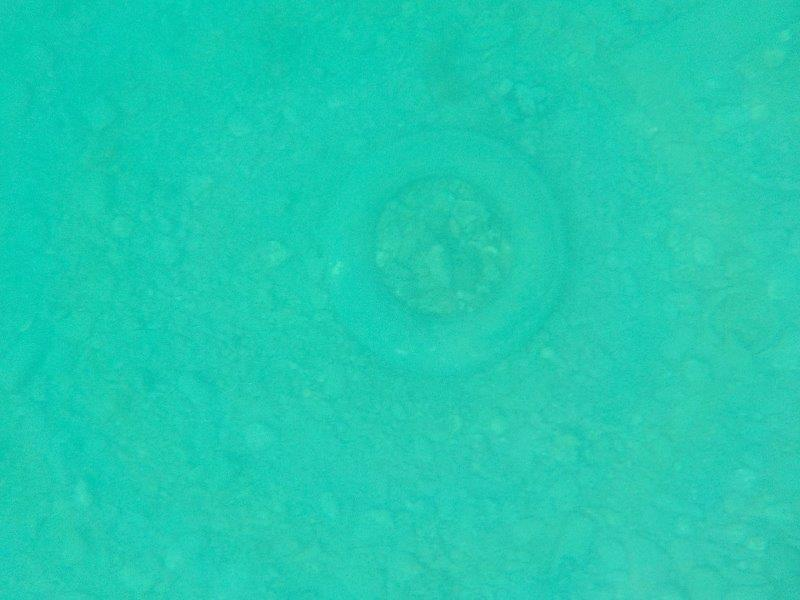tire: (311, 125, 573, 381)
